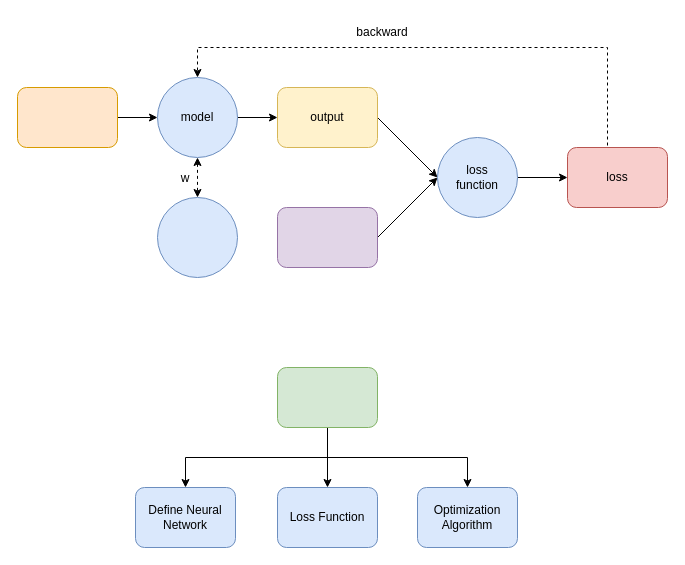
Some shapes in this 685 by 565 pixel diagram are drawn without their labels. Here are the shapes that lost their labels. From the top down, the box of each, then its label:
(16, 86, 118, 148): input
(156, 196, 238, 278): optimizer
(276, 206, 378, 268): target
(276, 366, 378, 428): Training
